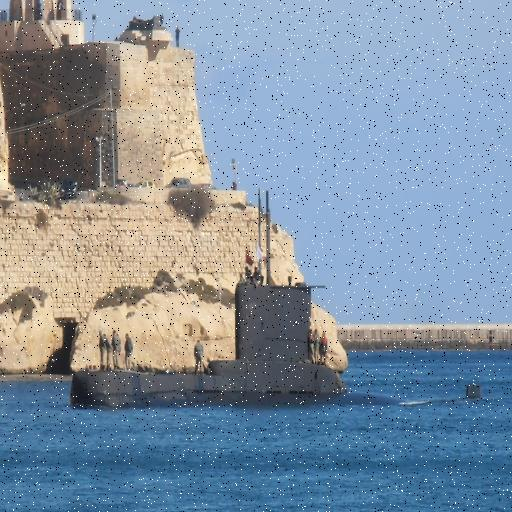submarine: (76, 186, 494, 407)
